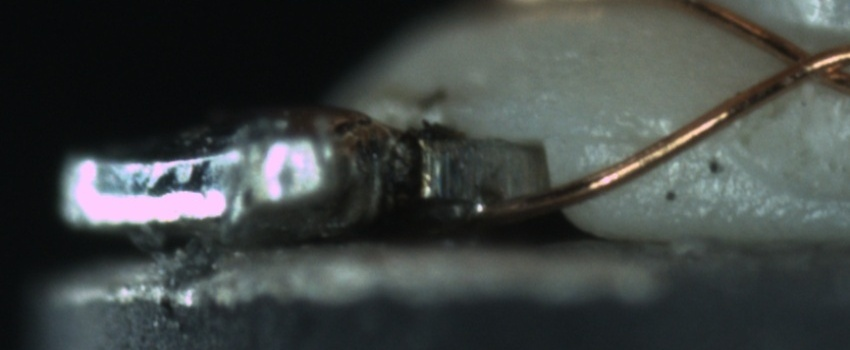CL: (766, 30, 847, 93)
DL: (569, 107, 729, 171)
